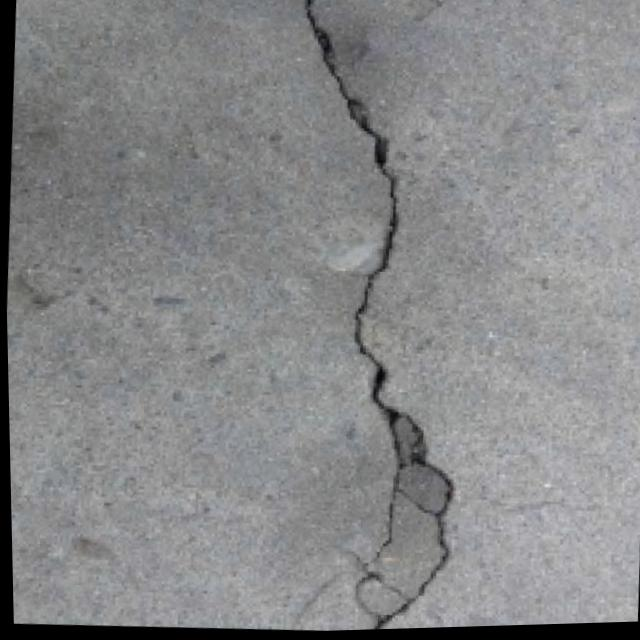Crack: (250, 0, 517, 628)
